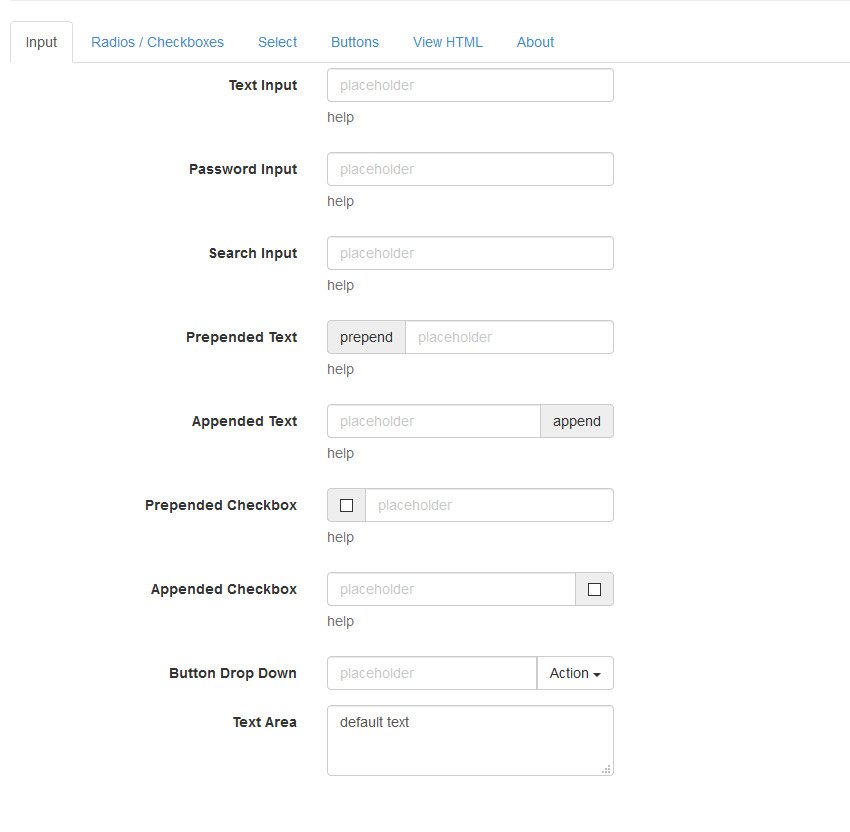_form_: (139, 392, 625, 801), (173, 43, 626, 454)
checkbox: (337, 488, 362, 517), (586, 577, 604, 599)
checkbox_with_label: (146, 487, 363, 519)
field: (323, 703, 615, 778), (325, 149, 617, 190), (322, 234, 614, 273), (324, 317, 618, 355), (326, 65, 619, 103), (361, 485, 617, 524), (323, 570, 578, 609), (322, 401, 545, 443), (322, 654, 539, 692), (535, 654, 616, 693)
field_with_label: (234, 701, 617, 781), (190, 147, 619, 192), (208, 232, 616, 276), (152, 568, 579, 610), (185, 315, 621, 356), (228, 62, 623, 105), (192, 399, 547, 445), (169, 651, 536, 694)
